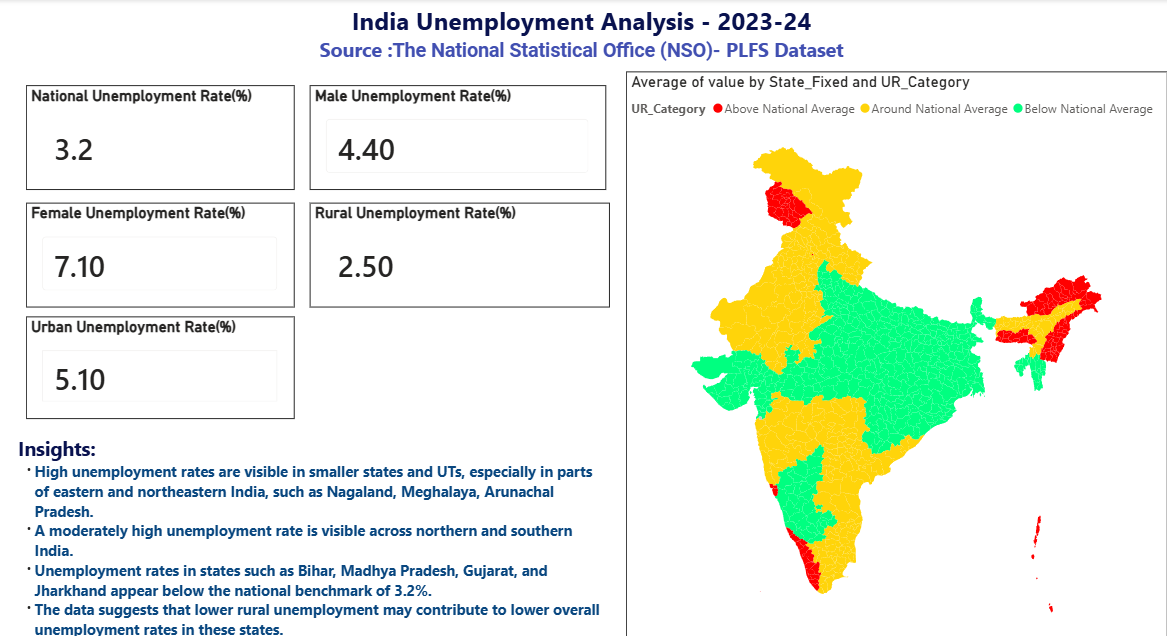

What the dashboard file says about the page in this screenshot:
{"tool":"powerbi","page":{"name":"Overview","canvas":[1280,720],"ordinal":0},"visuals":[{"type":"textbox","box":[0,0,1280.3,89.2],"z":0},{"type":"cardVisual","title":"National Unemployment Rate(%)","fields":{"Data":["national_data.National Avg UR"]},"box":[32.8,94.3,293.8,114.8],"z":1000},{"type":"cardVisual","title":"Rural Unemployment Rate(%)","fields":{"Data":["national_data.Rural UR"]},"box":[343,222.7,327.9,114.8],"z":2000},{"type":"cardVisual","title":"Urban Unemployment Rate(%)","fields":{"Data":["national_data.Urban UR"]},"box":[32.8,347.1,293.8,112],"z":3000},{"type":"cardVisual","title":"Male Unemployment Rate(%)","fields":{"Data":["national_data.Urban Male UR","national_data.Urban Male UR"]},"box":[343,94.3,323.8,114.8],"z":4000},{"type":"cardVisual","title":"Female Unemployment Rate(%)","fields":{"Data":["national_data.Urban Female UR"]},"box":[32.8,222.7,293.8,114.8],"z":5000},{"type":"shapeMap","fields":{"Category":["state_data.State_Fixed"],"Series":["state_data.UR_Category"],"Value":["Avg(state_data.value)"]},"box":[688.6,79.2,591.6,625.8],"z":6000},{"type":"textbox","box":[19.1,471.4,647.7,233.6],"z":7000}]}

Visuals, with their boxes on the page's 1280x720 design canvas (x1, y1, x2, y2). These are canvas units, not pixel positions in the 1167x636 screenshot, which may show the page scaled, cropped or inside an application window:
textbox: bbox(0, 0, 1280, 89)
"National Unemployment Rate(%)" cardVisual: bbox(33, 94, 327, 209)
"Rural Unemployment Rate(%)" cardVisual: bbox(343, 223, 671, 338)
"Urban Unemployment Rate(%)" cardVisual: bbox(33, 347, 327, 459)
"Male Unemployment Rate(%)" cardVisual: bbox(343, 94, 667, 209)
"Female Unemployment Rate(%)" cardVisual: bbox(33, 223, 327, 338)
shapeMap - state_data.State_Fixed x state_data.UR_Category: bbox(689, 79, 1280, 705)
textbox: bbox(19, 471, 667, 705)
